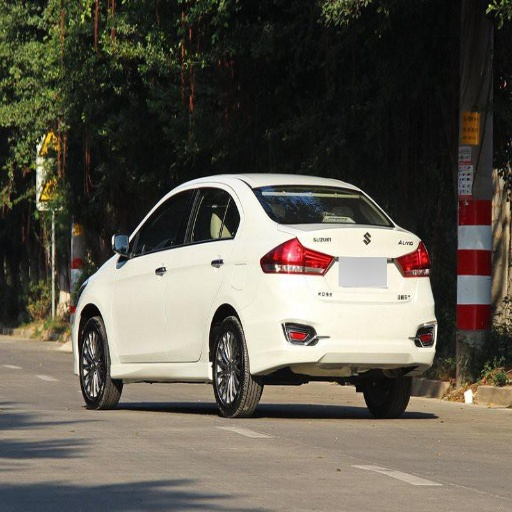back_bumper: (249, 279, 437, 371)
back_glass: (253, 185, 392, 225)
back_left_door: (169, 185, 234, 361)
tailgate: (299, 226, 412, 263)
trunk: (305, 230, 419, 334)
